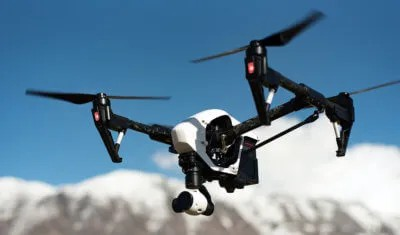maybay_khongnguoilai: (34, 23, 388, 210)
